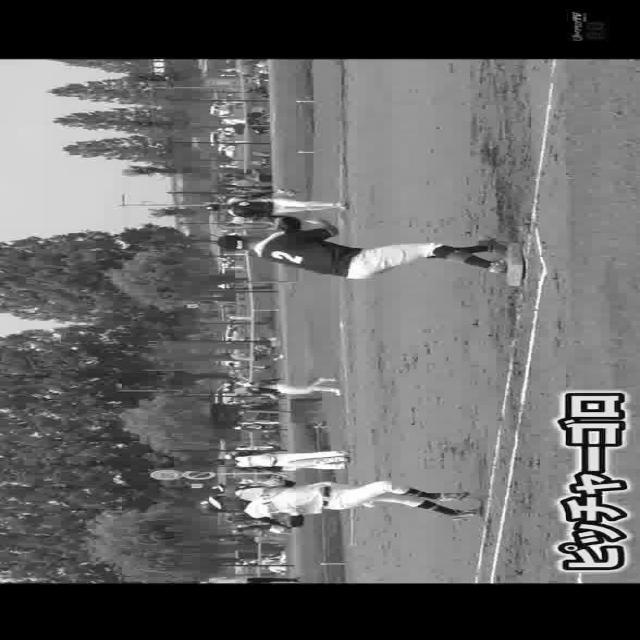base: (506, 241, 524, 288)
baseball_glove: (261, 208, 299, 235)
shoe: (446, 504, 492, 522), (423, 488, 471, 502), (480, 236, 510, 254), (482, 257, 510, 274)
